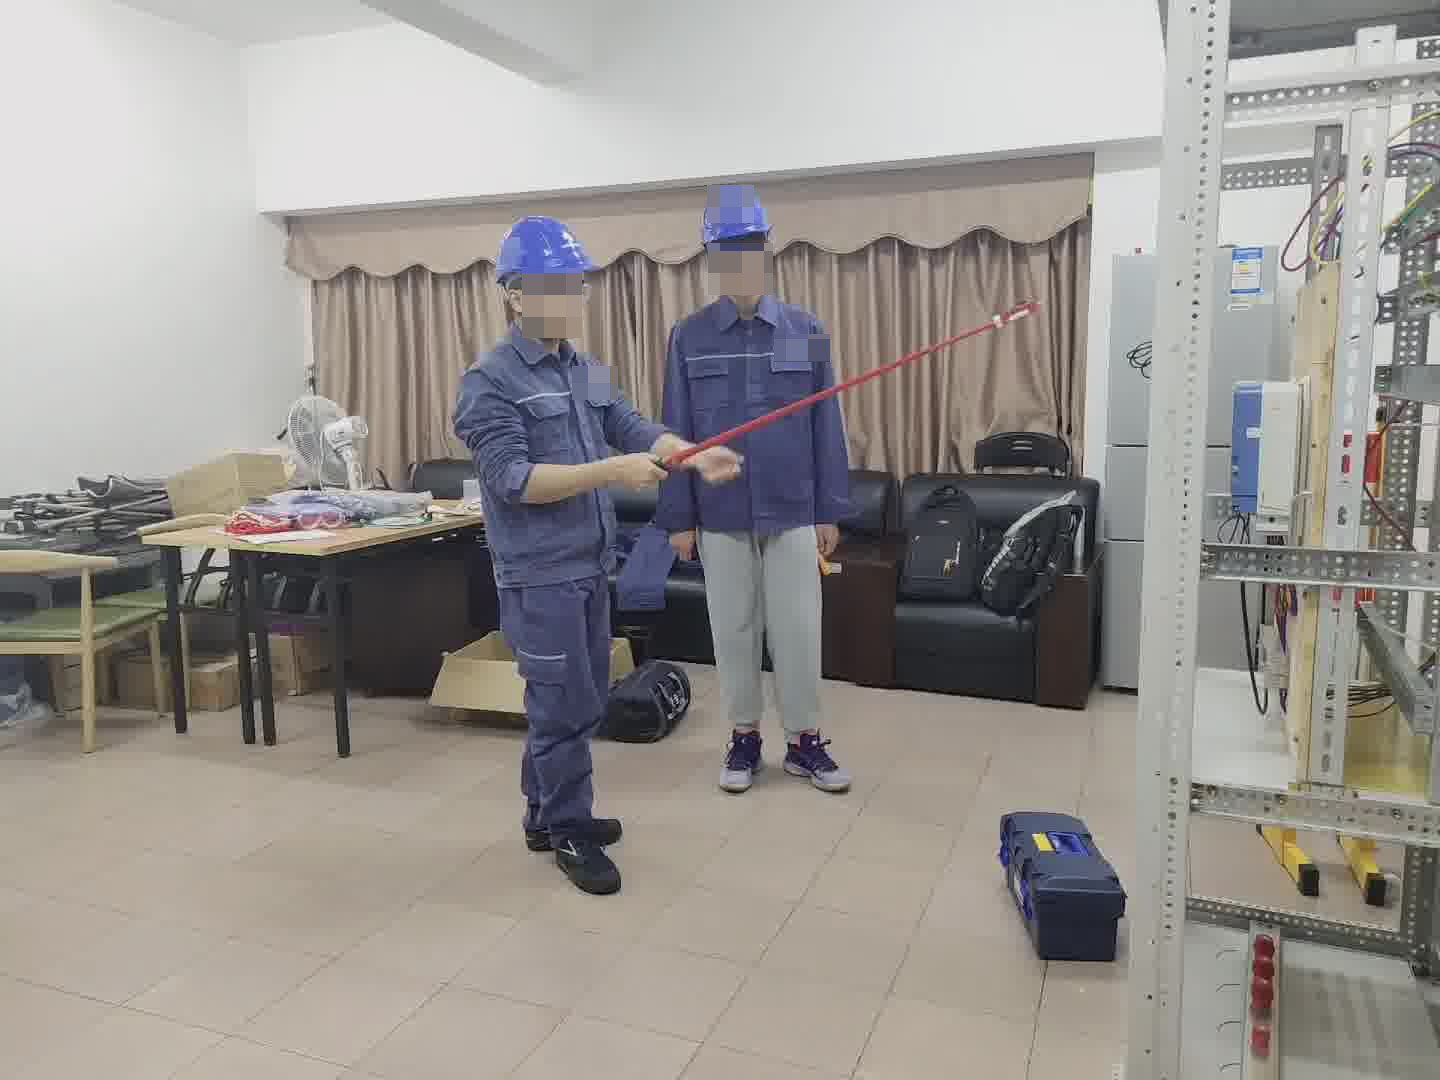downcloth: (687, 527, 842, 774)
downsuit: (500, 604, 623, 831)
halt: (490, 215, 604, 337), (700, 188, 776, 292)
hand: (604, 446, 667, 495), (695, 446, 748, 490), (812, 520, 839, 557), (665, 527, 695, 559)
inear: (501, 277, 544, 330)
person: (446, 213, 658, 864), (655, 185, 866, 793)
testrod: (658, 295, 1047, 478)
upsuit: (449, 325, 651, 586), (661, 292, 861, 527)
wrongtop: (492, 443, 667, 506), (634, 414, 744, 489)
